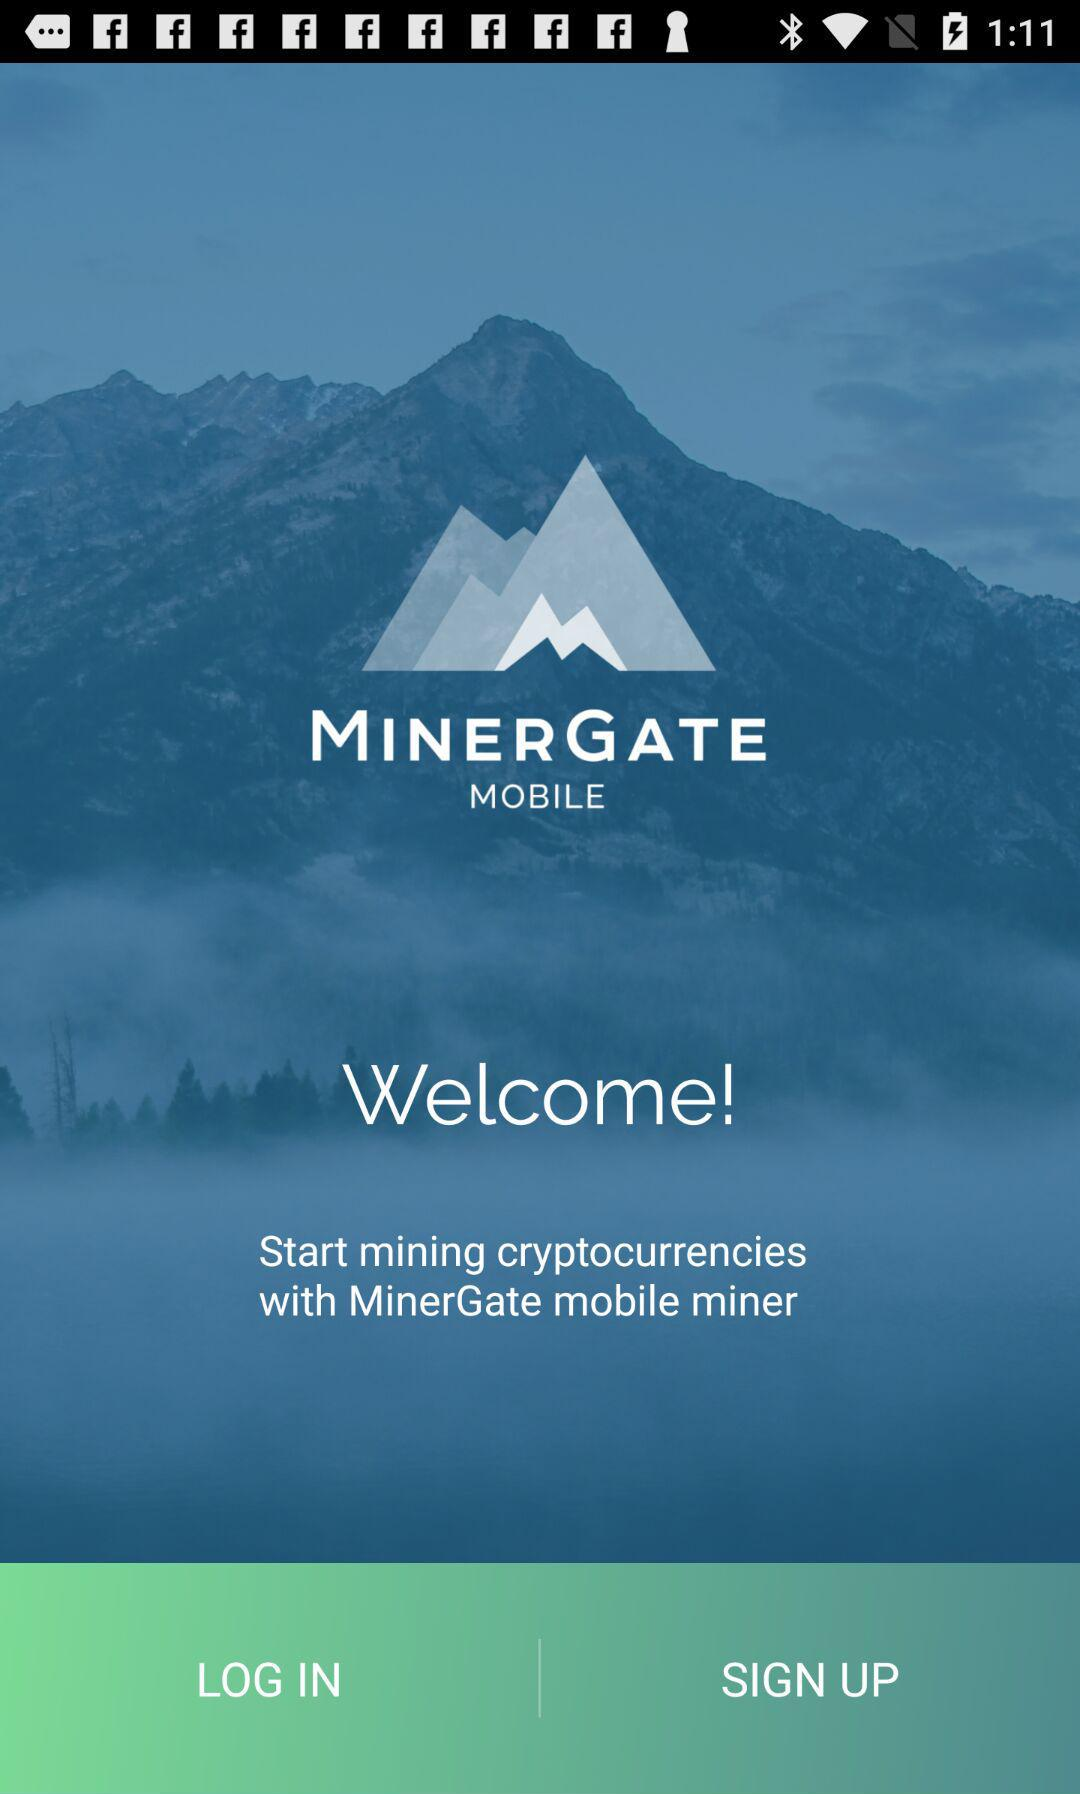BackgroundImage: (1, 64, 1080, 1563)
Image: (363, 454, 717, 673)
Text: (258, 1234, 808, 1319), (311, 705, 770, 766), (341, 1062, 734, 1129), (469, 780, 609, 812)
TextButton: (541, 1563, 1080, 1794), (1, 1563, 541, 1794)
UpperTaskBar: (1, 1, 1080, 64)
